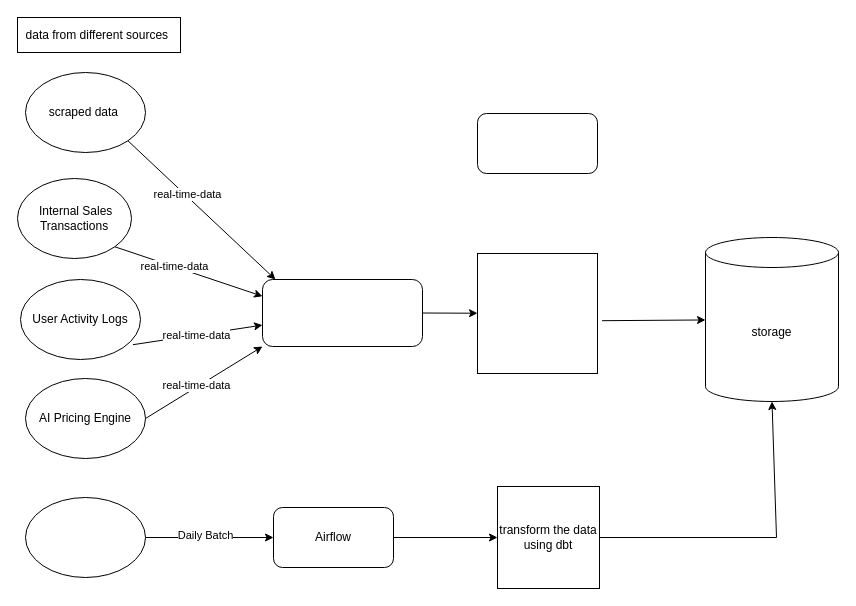
This 856x606 diagram has some shape labels left out. The shapes that lost their labels are listed below. From the top down, each one's box as (x1, y1, x2, y2) in pixels, then its label:
(476, 112, 598, 174): processing layer
(262, 278, 422, 346): kafka
(476, 252, 598, 374): transform the data using Spark
(24, 496, 146, 578): Manual Market Data
